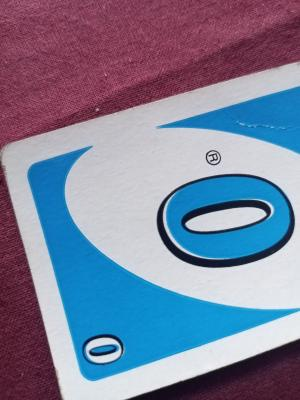num_0: (149, 165, 298, 273), (77, 329, 132, 370)
